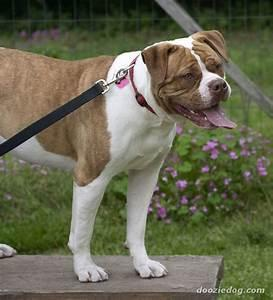dog: (0, 28, 236, 283)
